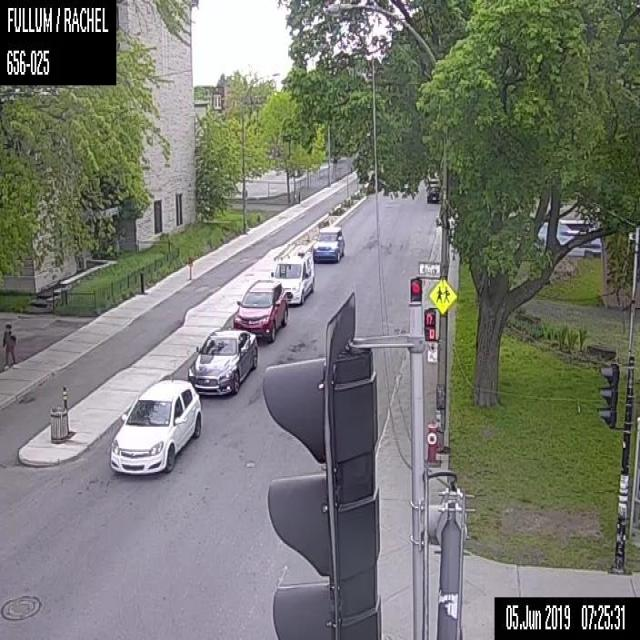pedestrian: (2, 323, 15, 366)
vehicle: (108, 379, 201, 473), (187, 328, 257, 396), (232, 278, 288, 344), (270, 239, 315, 304), (312, 224, 344, 262), (426, 183, 441, 202)
